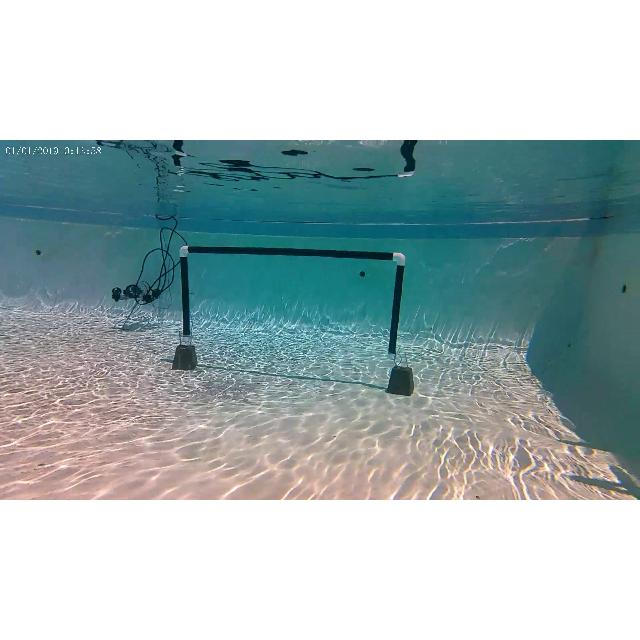prequal gate: (180, 246, 406, 360)
prequal gate leg l: (178, 245, 200, 348)
prequal gate leg r: (382, 248, 406, 354)
